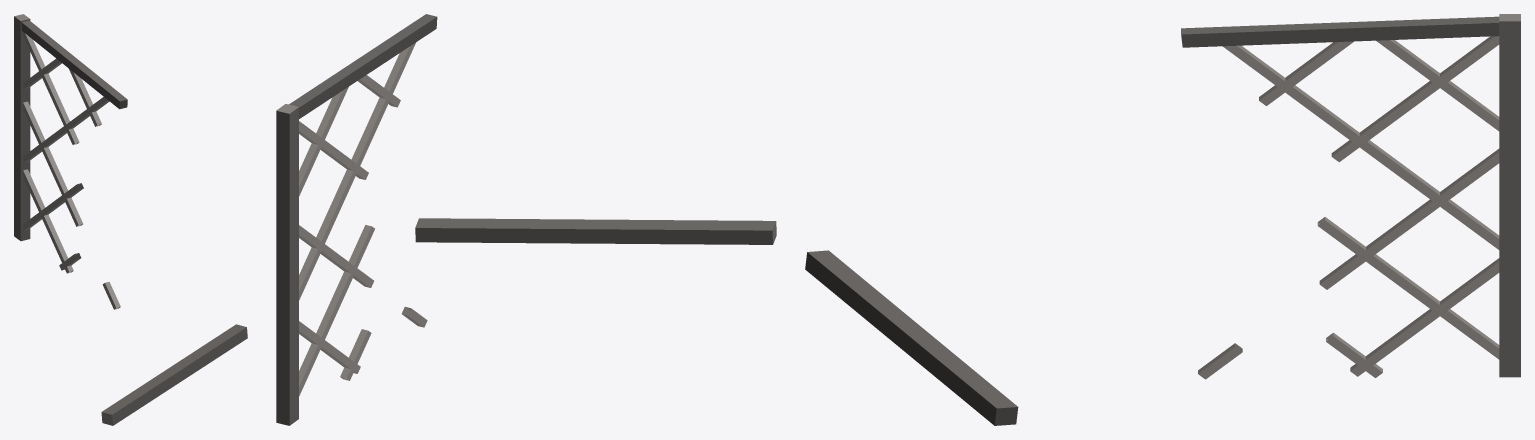
The model's file is SA_Prop_Fence_Wire_Damaged_02.glb.
3 renders of one model, left to right at view 1: azimuth 30°, elevation 25°; view 2: azimuth 150°, elevation 25°; view 3: azimuth 270°, elevation 25°, orthographic. The views are drawn at different scales.
Parts seen in each view (by area): view 1: SA_Prop_Fence_Wire_Damaged_02; view 2: SA_Prop_Fence_Wire_Damaged_02; view 3: SA_Prop_Fence_Wire_Damaged_02.
Boxes of the visible parts, left/top/right/bottom form: SA_Prop_Fence_Wire_Damaged_02: left=14, top=14, right=247, bottom=425; SA_Prop_Fence_Wire_Damaged_02: left=276, top=14, right=776, bottom=425; SA_Prop_Fence_Wire_Damaged_02: left=805, top=14, right=1520, bottom=425.
Size of the model in its own units: 1.28 by 1.37 by 2.47.
1 material, 1 textured.
